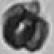correct: (1, 1, 52, 53)
